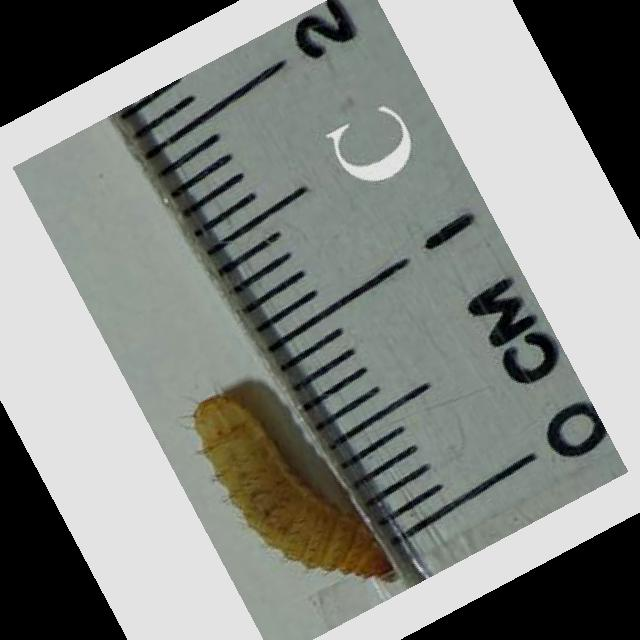Maggot: (190, 394, 407, 578)
